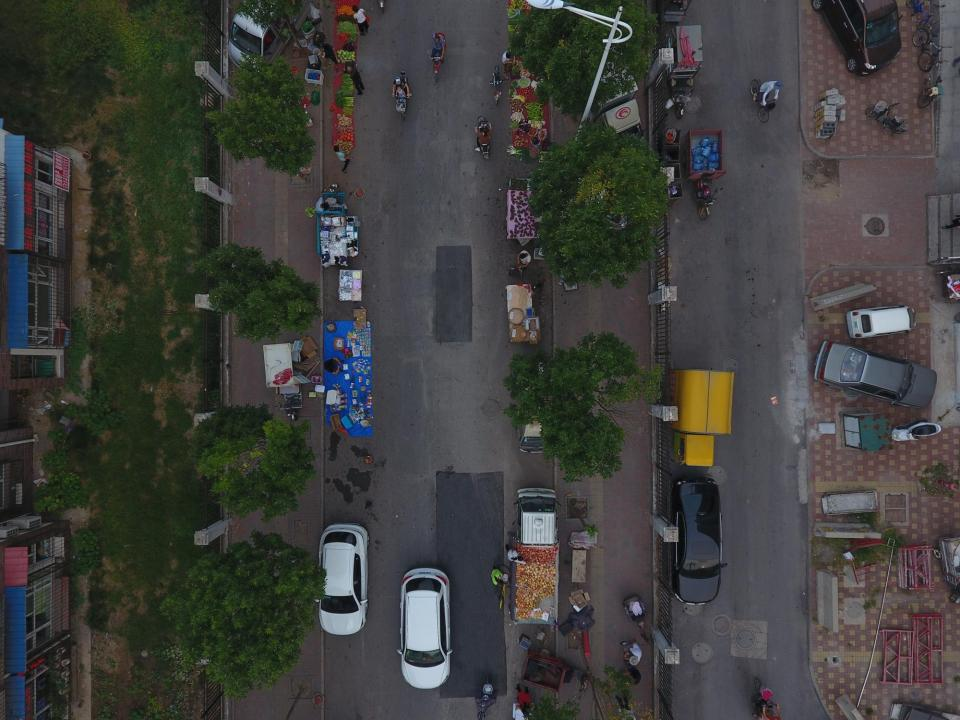car: (813, 339, 936, 410), (666, 475, 724, 605), (812, 0, 902, 76), (399, 568, 453, 690), (316, 523, 368, 635), (846, 306, 916, 343)
truck: (560, 31, 645, 153), (514, 488, 559, 625)
van: (229, 0, 314, 78), (517, 391, 548, 453)
